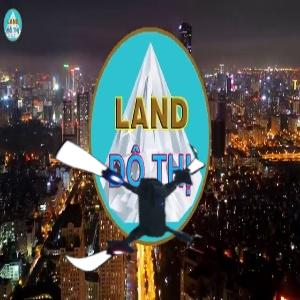drone: (38, 120, 214, 296)
